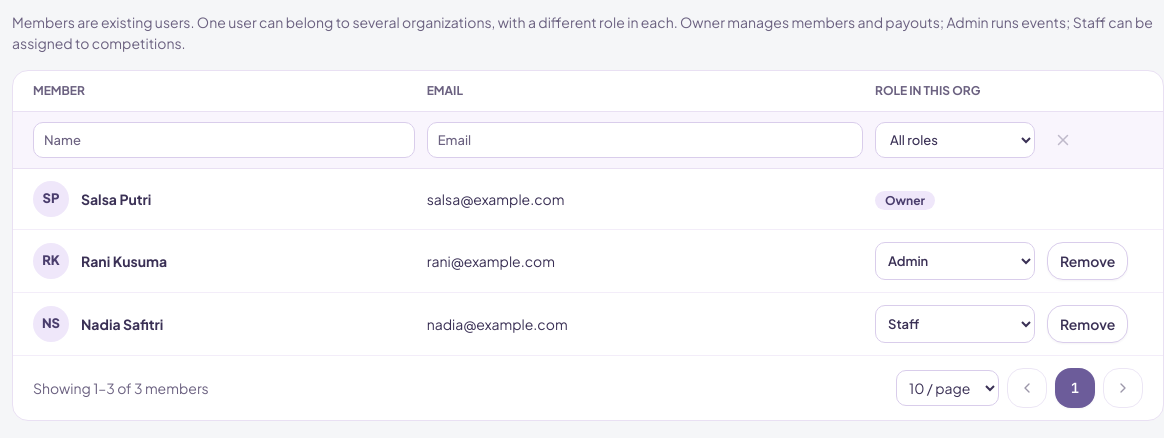
Test: MembersTab › shows the member list with filters and page info
The width and height of the screenshot is (1164, 438).
Expected: the text "Salsa Putri" is shown, [81,188,151,210]
Expected: the text "Showing 1–3 of 3 members" is shown, [33,378,209,398]
Step 1. Type "rani" into the field named "Filter member" → (224, 140), box [33,122,415,158]
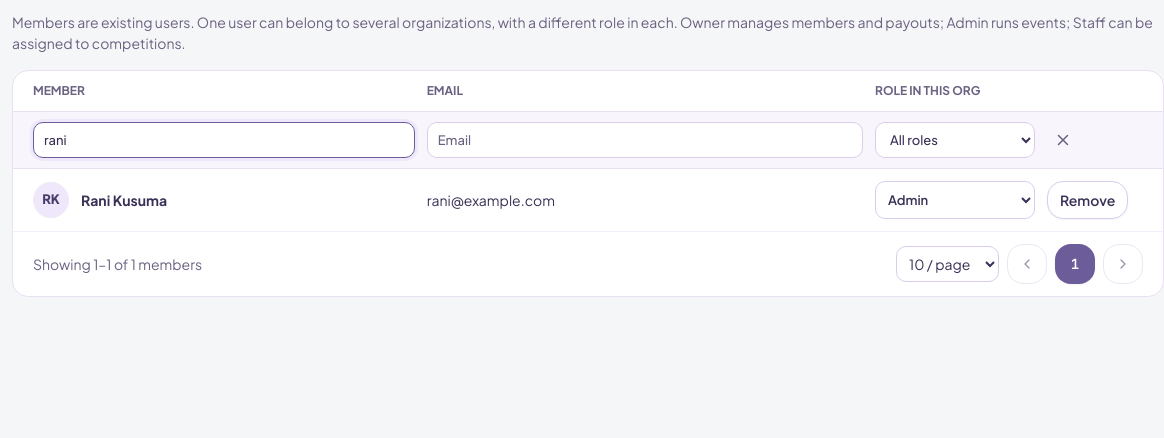
Expected: the text "Rani Kusuma" is shown, [81,190,167,210]
Expected: the text "Salsa Putri" is gone
